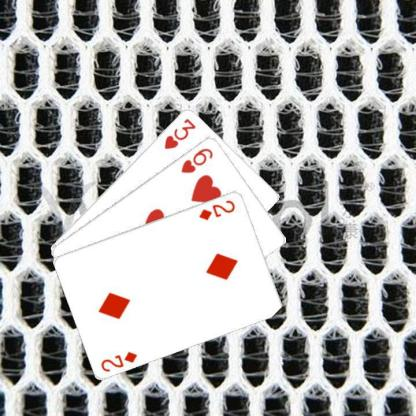2D: (98, 349, 139, 374), (196, 197, 236, 221)
3H: (161, 116, 197, 150)
6H: (178, 145, 214, 175)
